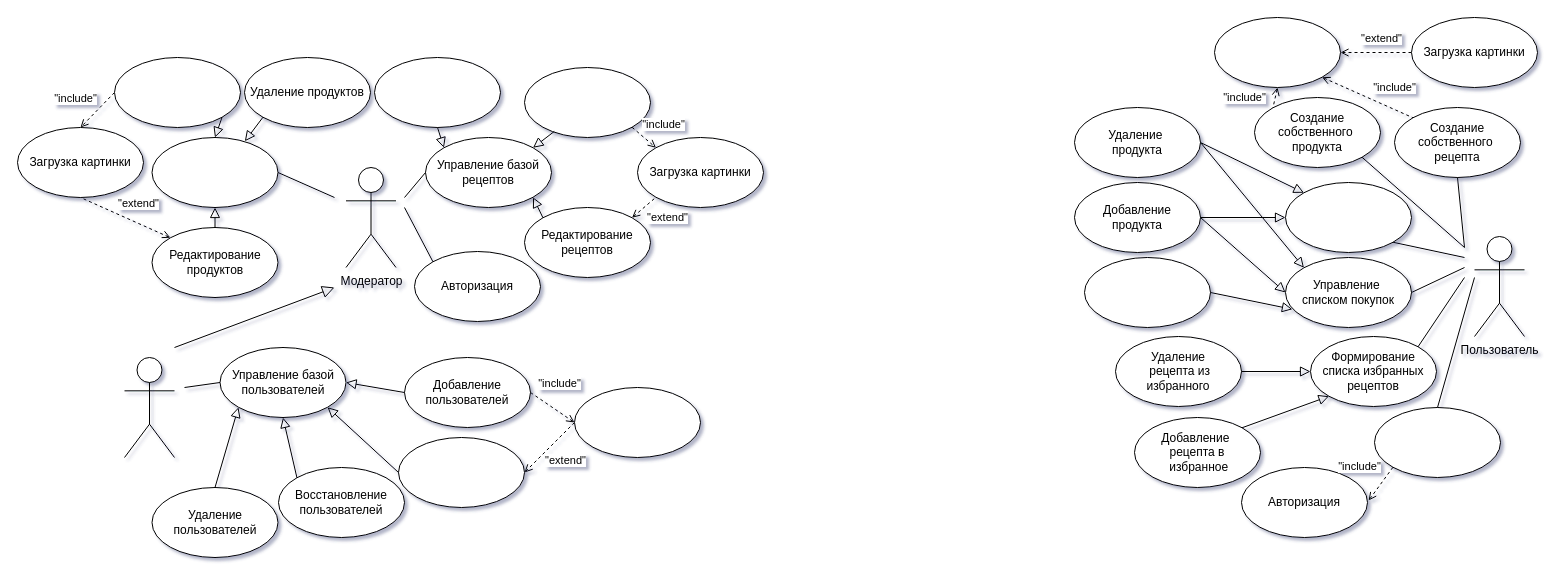
Some shapes in this 1562 by 581 pixel diagram are drawn without their labels. Here are the shapes that lost their labels. From the top down, the centre of each, then its label:
point (1277, 52): Указание информации
point (177, 92): Добавление продуктов
point (437, 92): Удаление рецептов
point (587, 102): Добавление рецептов
point (214, 172): Управление базой продуктов
point (1348, 217): Управление списком продуктов в "хранилище"
point (1147, 292): Удаление списка
point (149, 407): Администратор
point (637, 422): Назначение роли
point (1437, 442): Регистрация
point (461, 472): Редактирование пользователей
